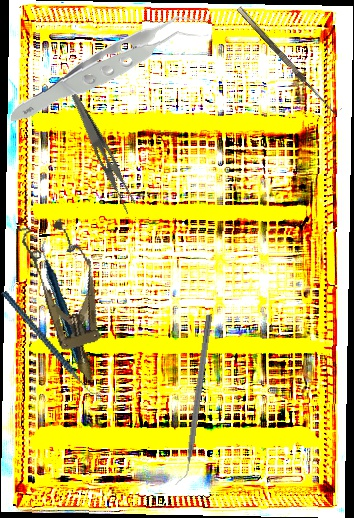Chopper: (0, 271, 104, 416), (173, 312, 213, 487)
Dressing Forceps: (58, 92, 144, 216)
Handpiece: (8, 239, 123, 376)
Hook Surgical: (236, 1, 343, 117)
Speculum: (15, 212, 121, 389)
Tissue Forceps: (11, 8, 211, 132)
